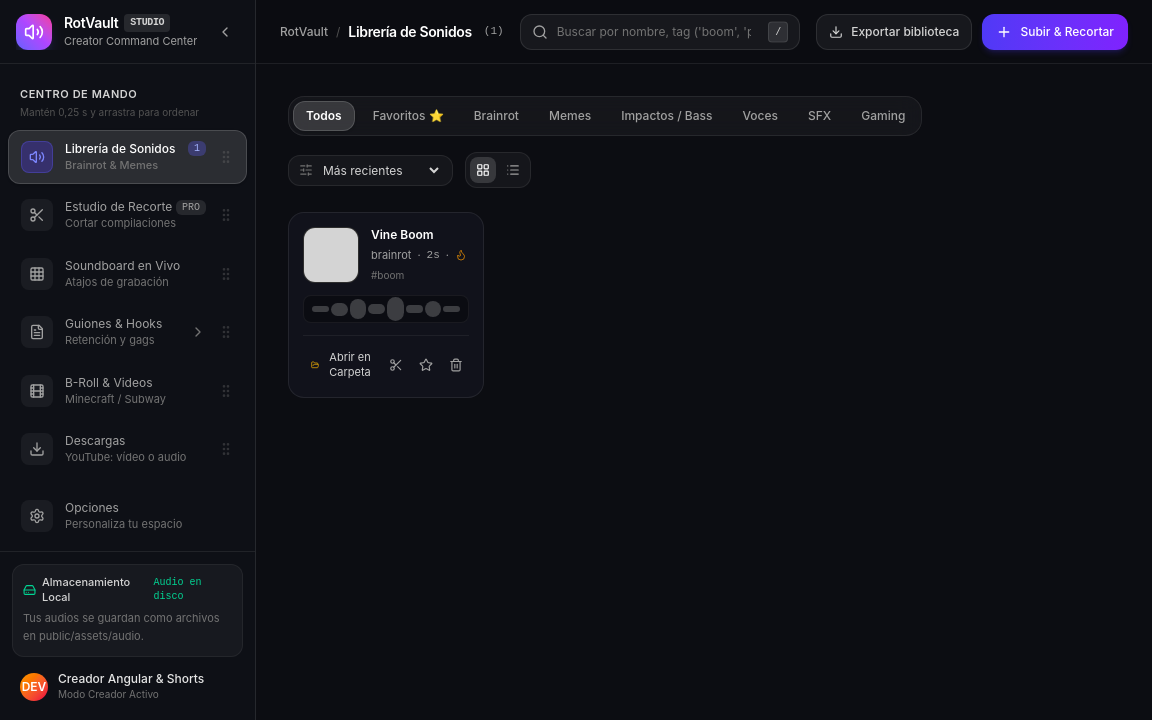
App › mantiene el favorito anterior cuando la API rechaza el cambio
Check: the heading "Vine Boom" is shown, box [371,227,434,243]
Click the button titled "Marcar favorito": [426, 365] box [413,352,439,378]
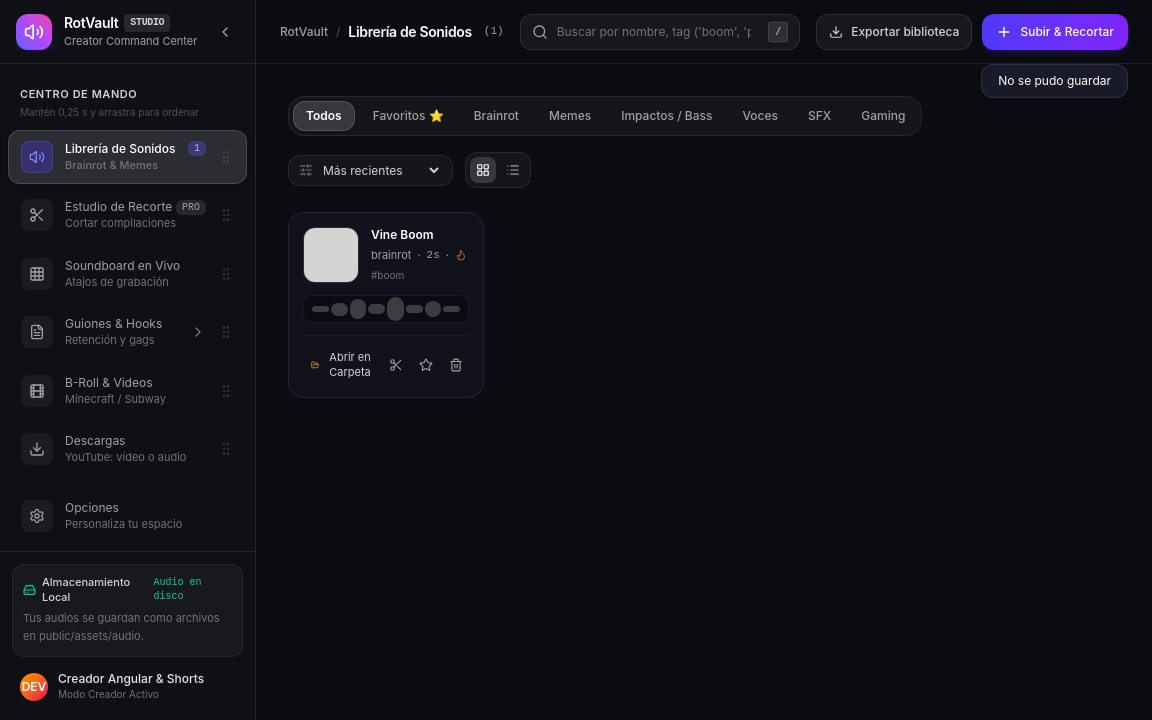
Check: the message reads "No se pudo guardar", box [998,73,1111,88]
